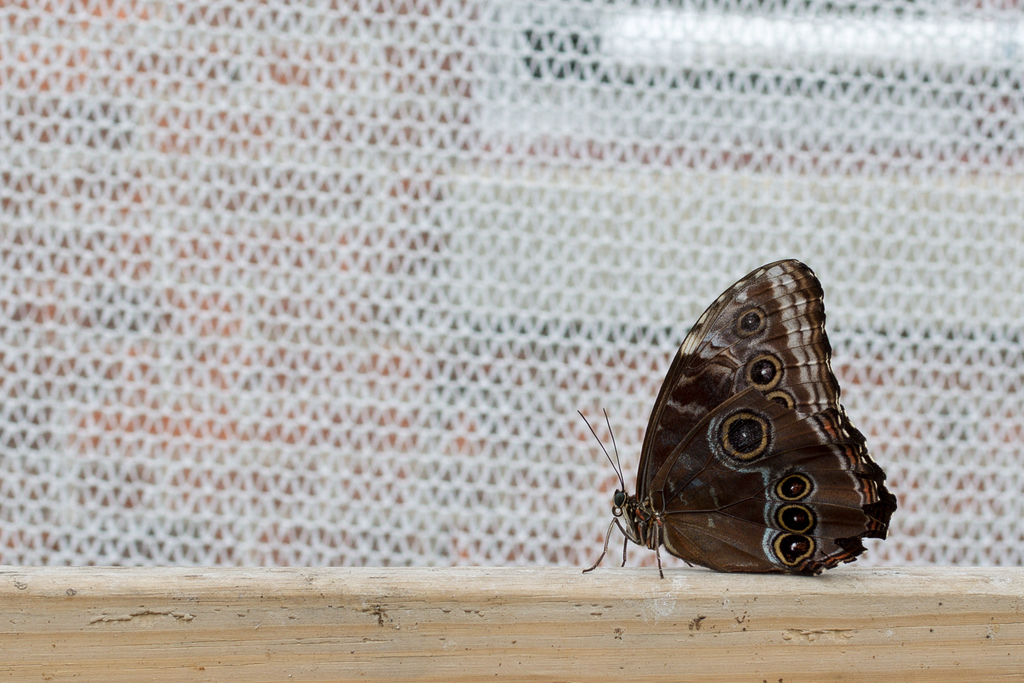Butterfly: (581, 262, 909, 592)
